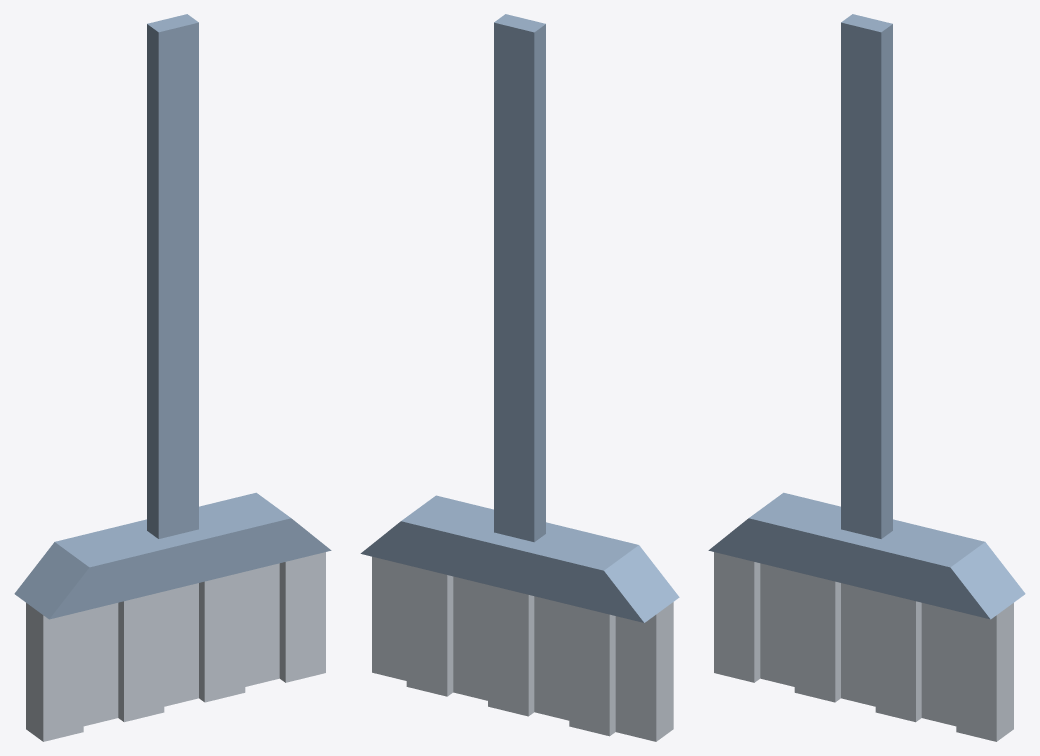
The model's file is mop.glb.
The picture shows the model from 3 angles, left to right: view 1: azimuth 30°, elevation 25°; view 2: azimuth 150°, elevation 25°; view 3: azimuth 330°, elevation 25°; orthographic projection.
Visible parts, largest first — view 1: generated(Clone); view 2: generated(Clone); view 3: generated(Clone).
Part boxes in pixels (x1,y1,x2,y2): generated(Clone): (14, 14, 331, 741); generated(Clone): (360, 14, 679, 741); generated(Clone): (708, 14, 1025, 741).
Size of the model in its own units: 7 by 16 by 1.5.
1 material, 1 textured.
